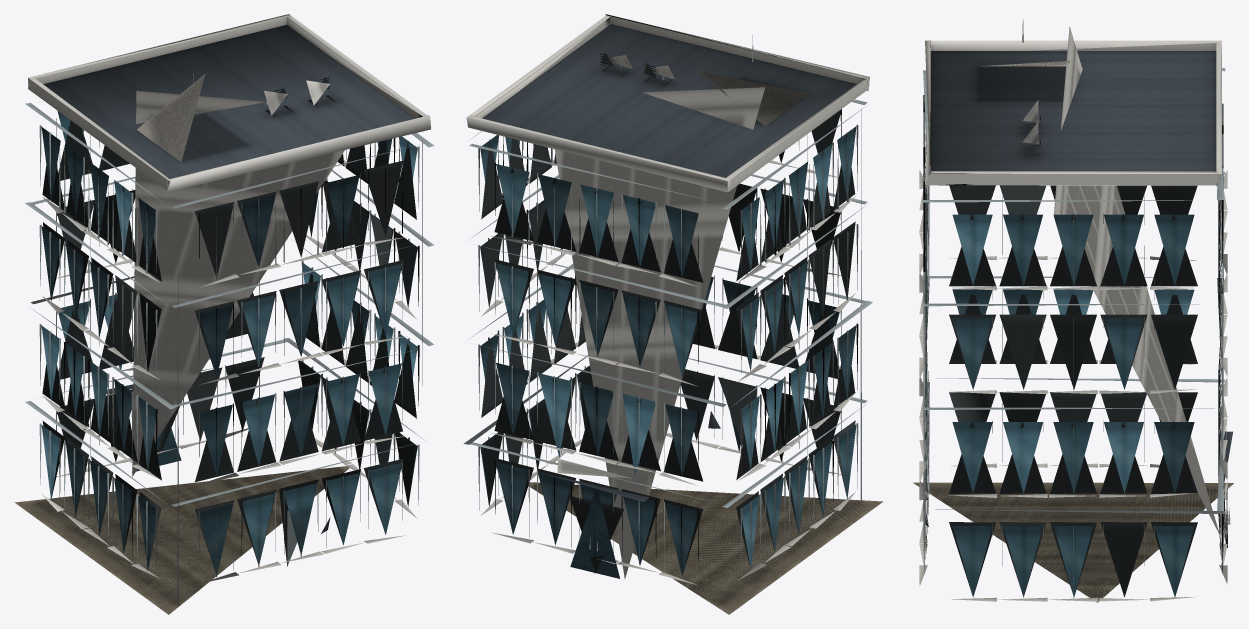
The model's file is office_004.lod2.obj.
3 renders of one model, left to right at view 1: azimuth 30°, elevation 25°; view 2: azimuth 150°, elevation 25°; view 3: azimuth 270°, elevation 25°, orthographic. The views are drawn at different scales.
Visible parts, largest first — view 1: office_004; view 2: office_004; view 3: office_004.
Part boxes in pixels (x1,y1,x2,y2): office_004: [14, 14, 433, 614]; office_004: [463, 14, 882, 614]; office_004: [913, 19, 1233, 602].
Size of the model in its own units: 9.1 by 15.5 by 8.9.
1 material, 1 textured.
